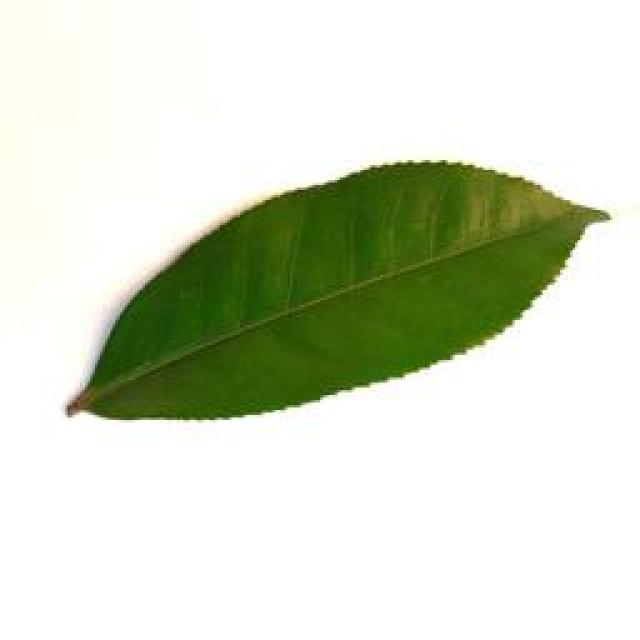Healthy: (44, 160, 607, 420)
